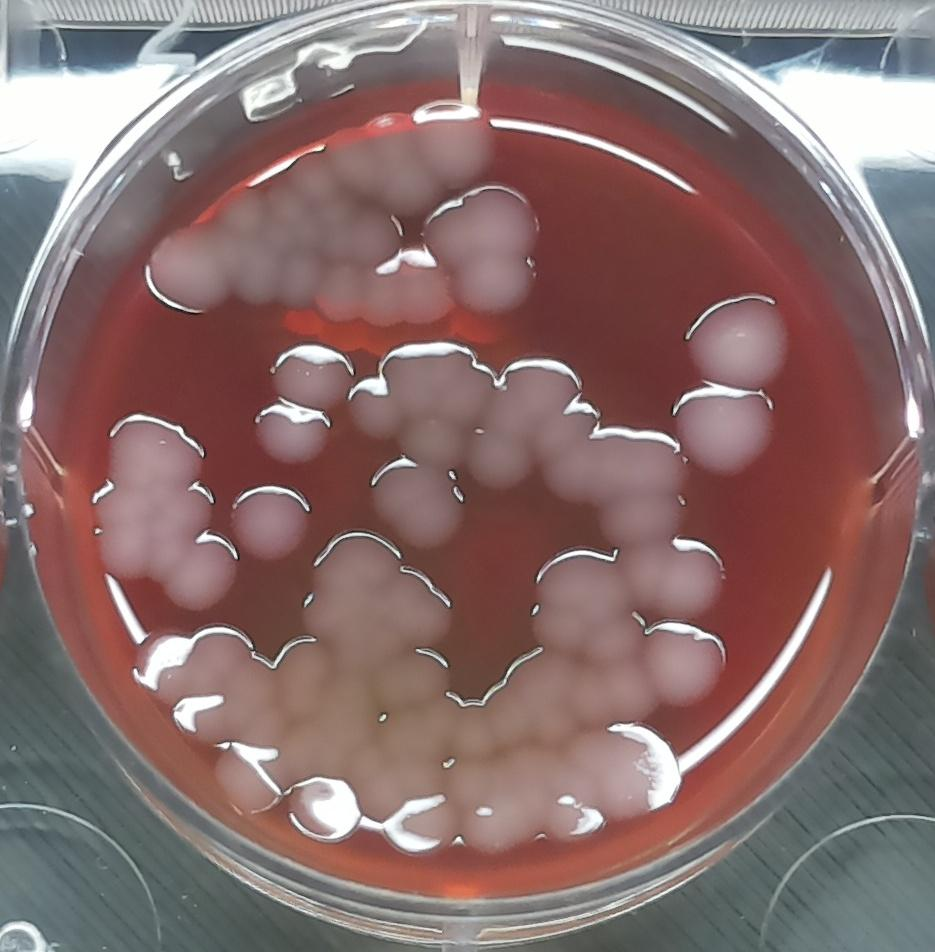valgino: (84, 410, 241, 613), (328, 97, 502, 214), (347, 335, 488, 465), (420, 181, 544, 316), (521, 546, 648, 658), (671, 280, 798, 391), (564, 714, 694, 822), (245, 337, 341, 466), (667, 389, 782, 486), (365, 453, 475, 554), (635, 532, 734, 627), (144, 219, 234, 318), (644, 617, 734, 712), (228, 479, 312, 559)
